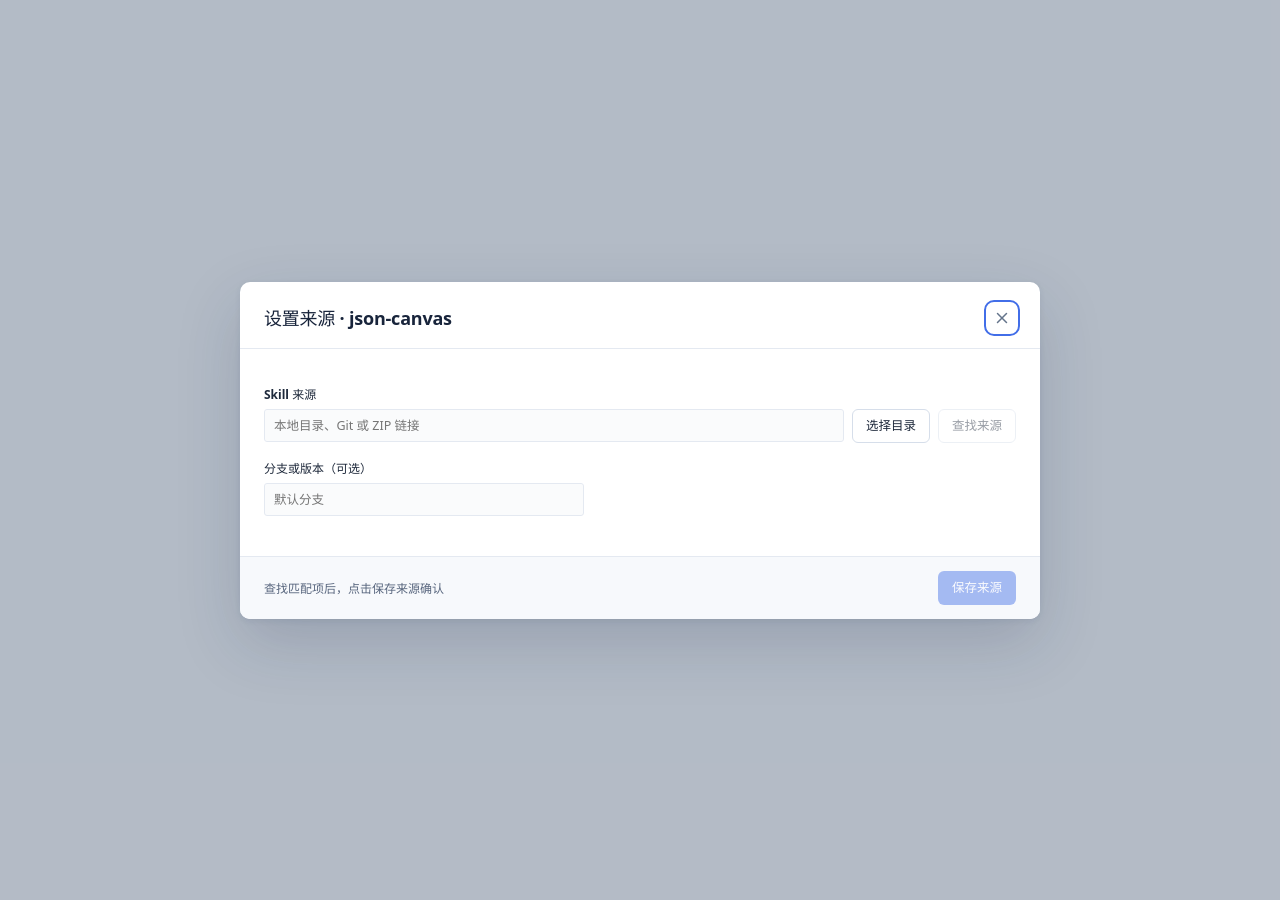
leaves different same-name directories selectable instead of guessing a source
Type "example/repo" into the field labelled "Skill 来源" at {"x": 554, "y": 425}, box [264,408,844,442]
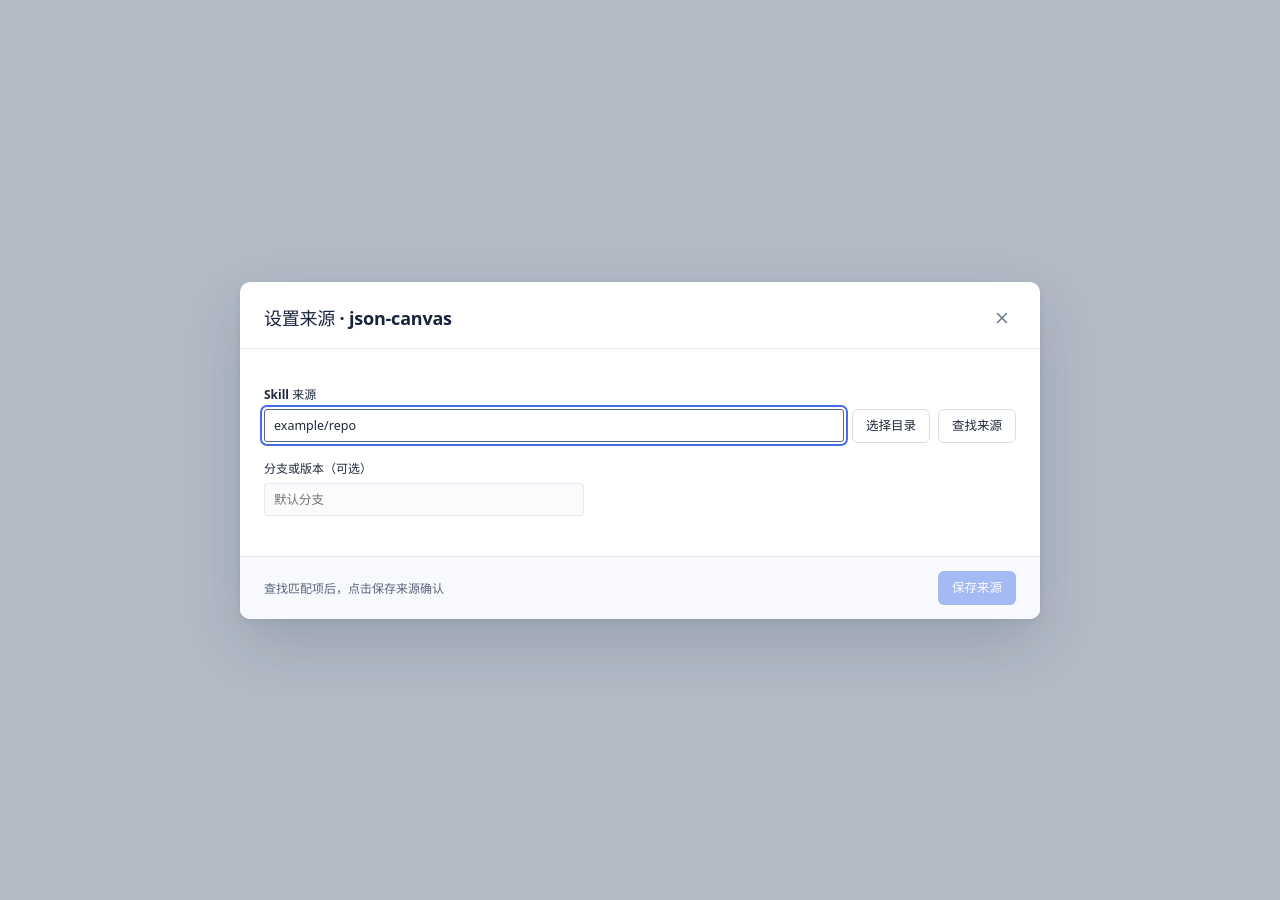
Click the button "查找来源" at {"x": 977, "y": 426}, box [938,408,1016,442]
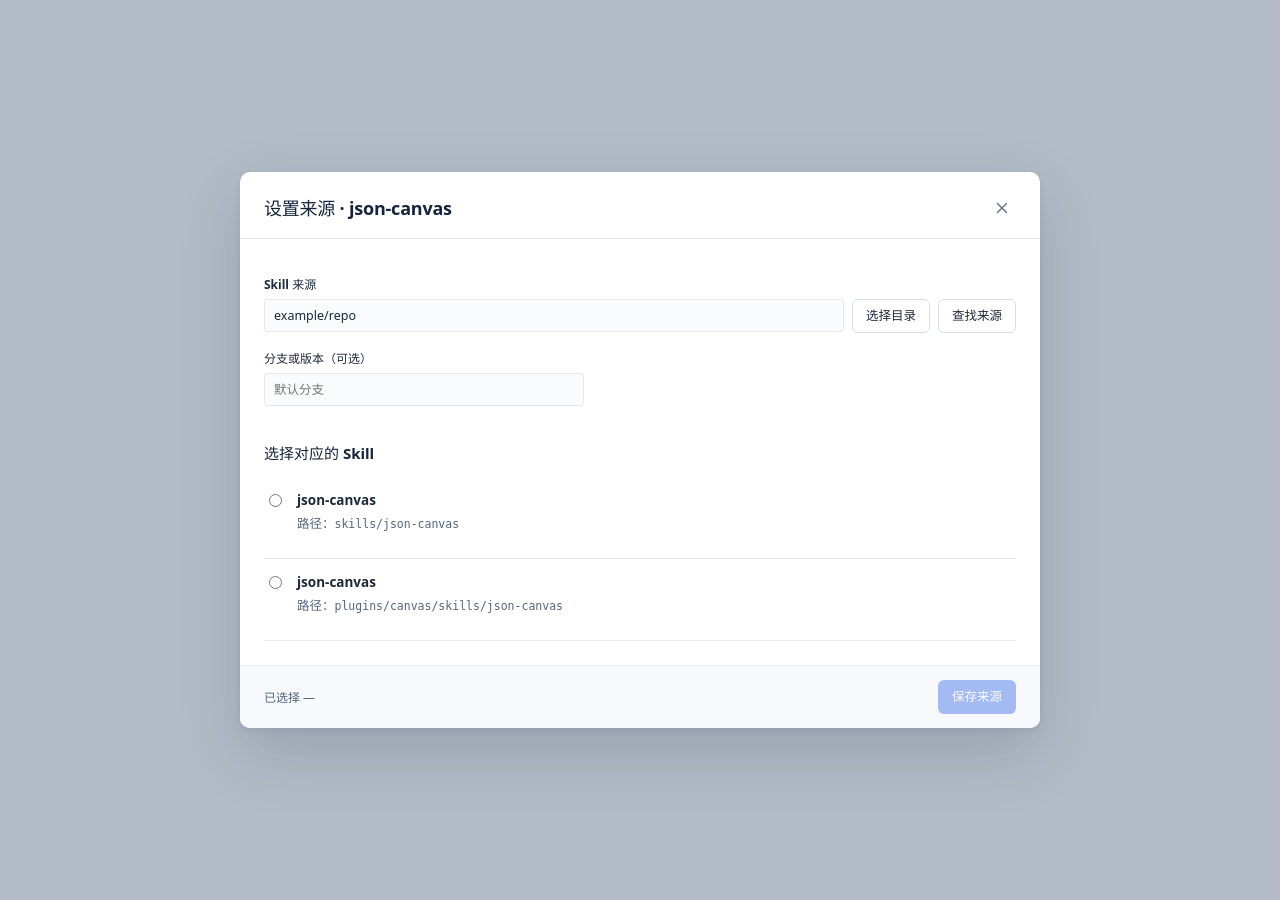
Check: the button "保存来源" is disabled, box [938,680,1016,714]
Check: the number of radio buttons is 2, box [269,494,282,507]; [269,576,282,589]
